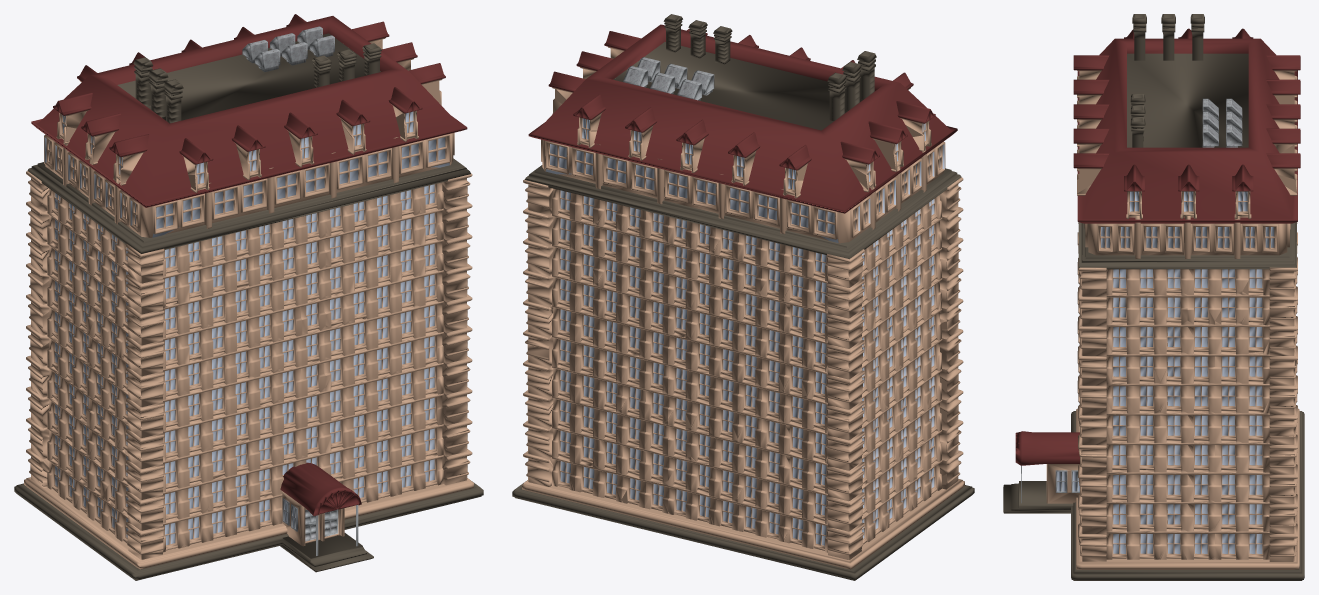
Rendered from french-apartment.glb.
The picture shows the model from 3 angles, left to right: view 1: azimuth 30°, elevation 25°; view 2: azimuth 150°, elevation 25°; view 3: azimuth 270°, elevation 25°; orthographic projection. The views are drawn at different scales.
Visible parts, largest first — view 1: Large Apartment Building; view 2: Large Apartment Building; view 3: Large Apartment Building.
Part boxes in pixels (x1,y1,x2,y2): Large Apartment Building: [14, 14, 483, 580]; Large Apartment Building: [512, 14, 974, 580]; Large Apartment Building: [1003, 14, 1304, 580].
Size of the model in its own units: 45 by 56 by 35.
5 materials, 1 textured.
